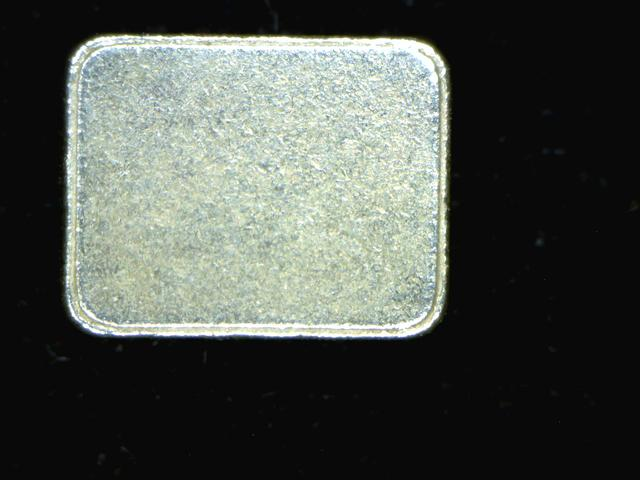nok: (58, 27, 459, 347)
